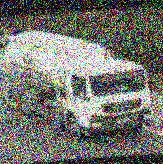truck: (0, 23, 156, 145)
